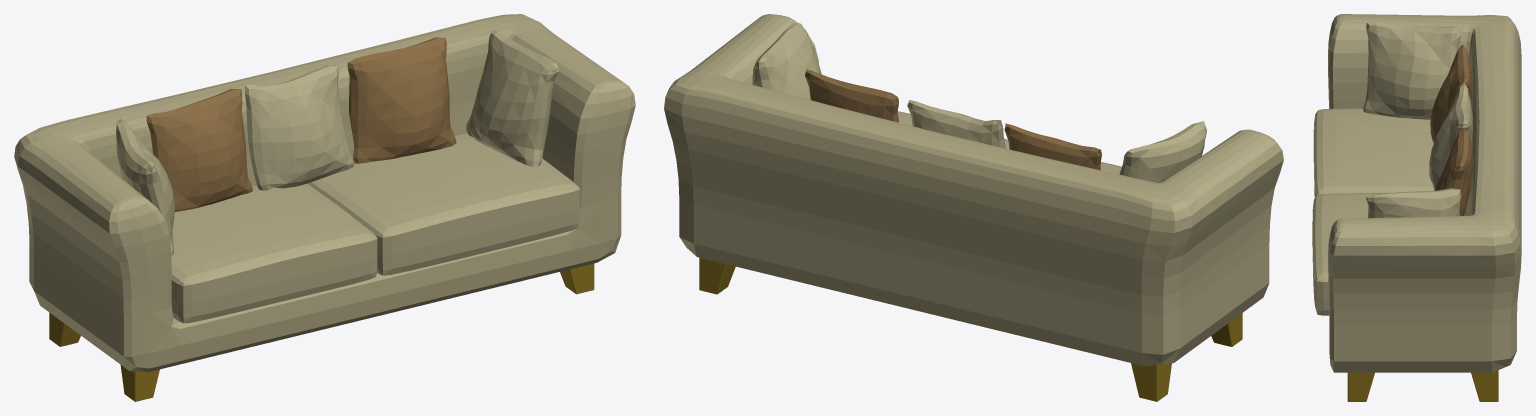
File: clear_sofa.obj
The picture shows the model from 3 angles, left to right: view 1: azimuth 30°, elevation 25°; view 2: azimuth 150°, elevation 25°; view 3: azimuth 270°, elevation 25°; orthographic projection. The views are drawn at different scales.
Parts seen in each view (by area): view 1: sofa_Cube, big_cushion2_Cube.001, big_cushion1_Cube.003, cushion_dark2_Cube.005, cushion_clear1_Cube.004, cushion_dark_Cube.028, cushion_clear3_Cube.007, cushion_clear2_Cube.006, legs_Cube.008; view 2: sofa_Cube, cushion_clear3_Cube.007, cushion_clear2_Cube.006, legs_Cube.008, cushion_dark2_Cube.005, cushion_clear1_Cube.004, cushion_dark_Cube.028; view 3: sofa_Cube, big_cushion1_Cube.003, cushion_clear2_Cube.006, big_cushion2_Cube.001, cushion_clear3_Cube.007, cushion_clear1_Cube.004, cushion_dark2_Cube.005, cushion_dark_Cube.028, legs_Cube.008.
Part boxes in pixels (left/top/right/bottom): sofa_Cube: left=14, top=14, right=635, bottom=372; big_cushion2_Cube.001: left=307, top=132, right=579, bottom=275; big_cushion1_Cube.003: left=171, top=183, right=377, bottom=323; cushion_dark2_Cube.005: left=347, top=37, right=456, bottom=163; cushion_clear1_Cube.004: left=244, top=64, right=354, bottom=190; cushion_dark_Cube.028: left=146, top=88, right=252, bottom=211; cushion_clear3_Cube.007: left=466, top=30, right=558, bottom=166; cushion_clear2_Cube.006: left=116, top=119, right=174, bottom=256; legs_Cube.008: left=49, top=263, right=594, bottom=401; sofa_Cube: left=664, top=14, right=1283, bottom=366; cushion_clear3_Cube.007: left=752, top=23, right=821, bottom=99; cushion_clear2_Cube.006: left=1119, top=121, right=1207, bottom=182; legs_Cube.008: left=699, top=257, right=1242, bottom=401; cushion_dark2_Cube.005: left=805, top=69, right=898, bottom=122; cushion_clear1_Cube.004: left=907, top=100, right=1005, bottom=148; cushion_dark_Cube.028: left=1004, top=123, right=1101, bottom=170; sofa_Cube: left=1328, top=14, right=1521, bottom=372; big_cushion1_Cube.003: left=1313, top=108, right=1434, bottom=197; cushion_clear2_Cube.006: left=1363, top=22, right=1461, bottom=119; big_cushion2_Cube.001: left=1312, top=193, right=1464, bottom=315; cushion_clear3_Cube.007: left=1366, top=188, right=1461, bottom=218; cushion_clear1_Cube.004: left=1429, top=82, right=1472, bottom=189; cushion_dark2_Cube.005: left=1434, top=128, right=1473, bottom=215; cushion_dark_Cube.028: left=1430, top=44, right=1472, bottom=143; legs_Cube.008: left=1347, top=370, right=1498, bottom=401.
Size of the model in its own units: 5.69 by 2.35 by 2.23.
